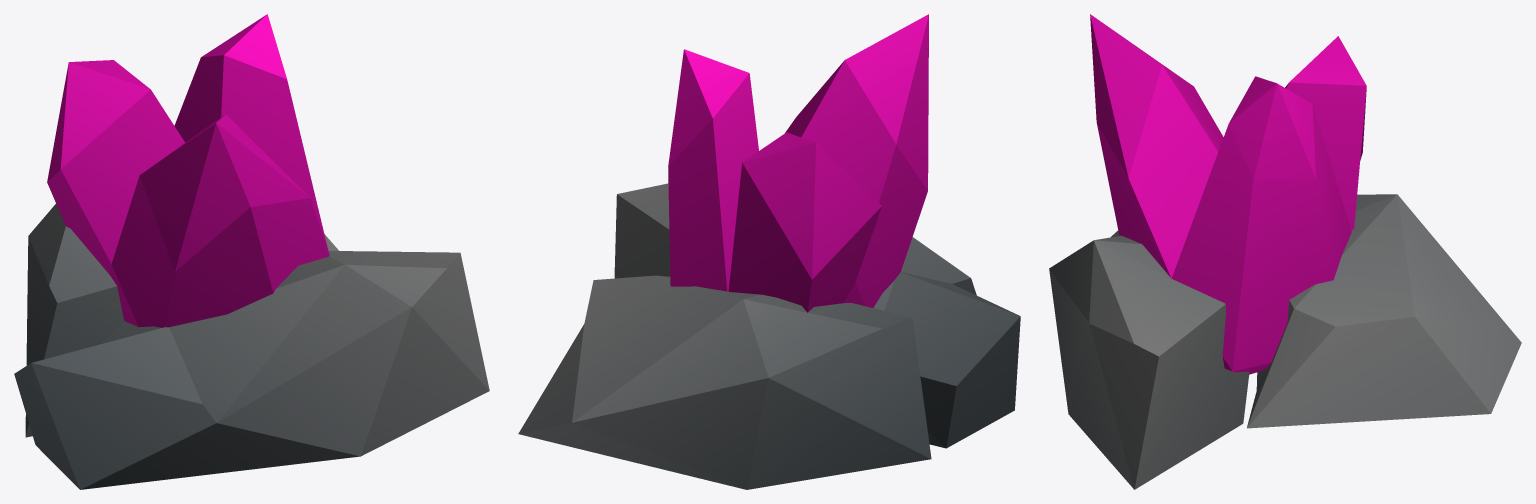
File: Dolomite Rocks.fbx
3 renders of one model, left to right at view 1: azimuth 30°, elevation 25°; view 2: azimuth 150°, elevation 25°; view 3: azimuth 270°, elevation 25°, orthographic. The views are drawn at different scales.
Parts seen in each view (by area): view 1: DOLOMITE ROCK2.001; view 2: DOLOMITE ROCK2.001; view 3: DOLOMITE ROCK2.001.
Part boxes in pixels (left/top/right/bottom): DOLOMITE ROCK2.001: left=14, top=14, right=489, bottom=489; DOLOMITE ROCK2.001: left=518, top=14, right=1020, bottom=489; DOLOMITE ROCK2.001: left=1049, top=14, right=1521, bottom=489.
Bounding box in the file's own units: 208 × 164 × 206.
Materials: 2 (2 with a texture image).
